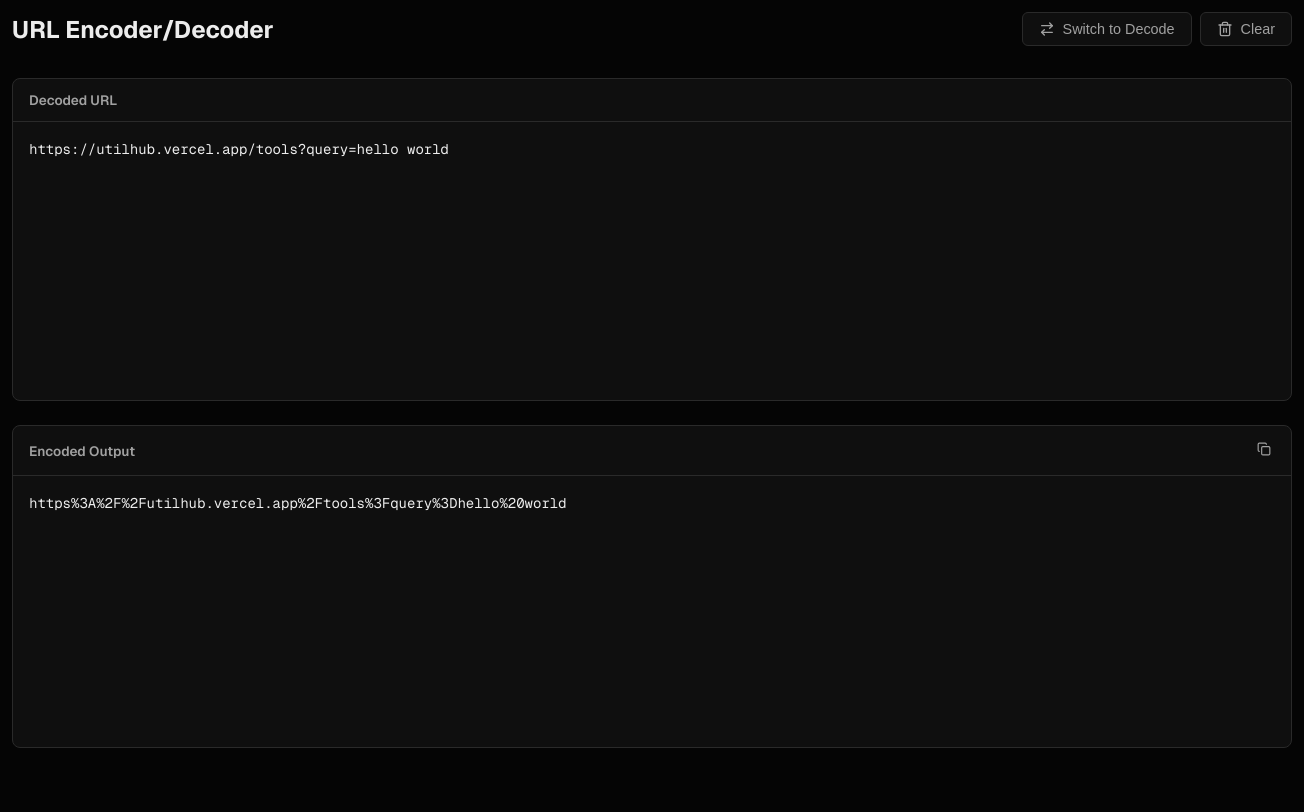
it: UrlTool › decodes a URL-encoded string
Click the button titled "Switch Mode". click: (1107, 29)
box: [1022,12,1192,46]
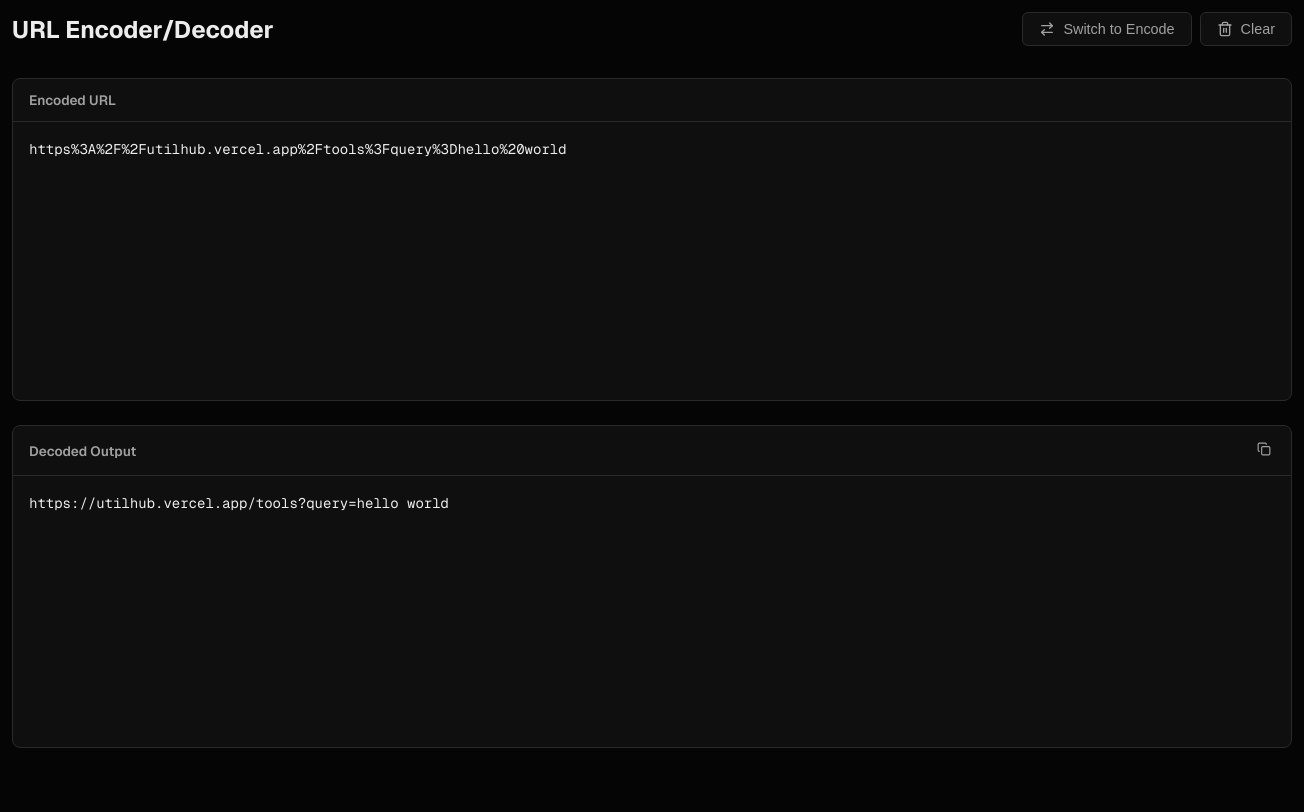
Replace the text in the text box with placeholder "Paste URL to decode..." below "Encoded URL" with "hello%20world". click: (652, 261)
box: [13,122,1291,400]
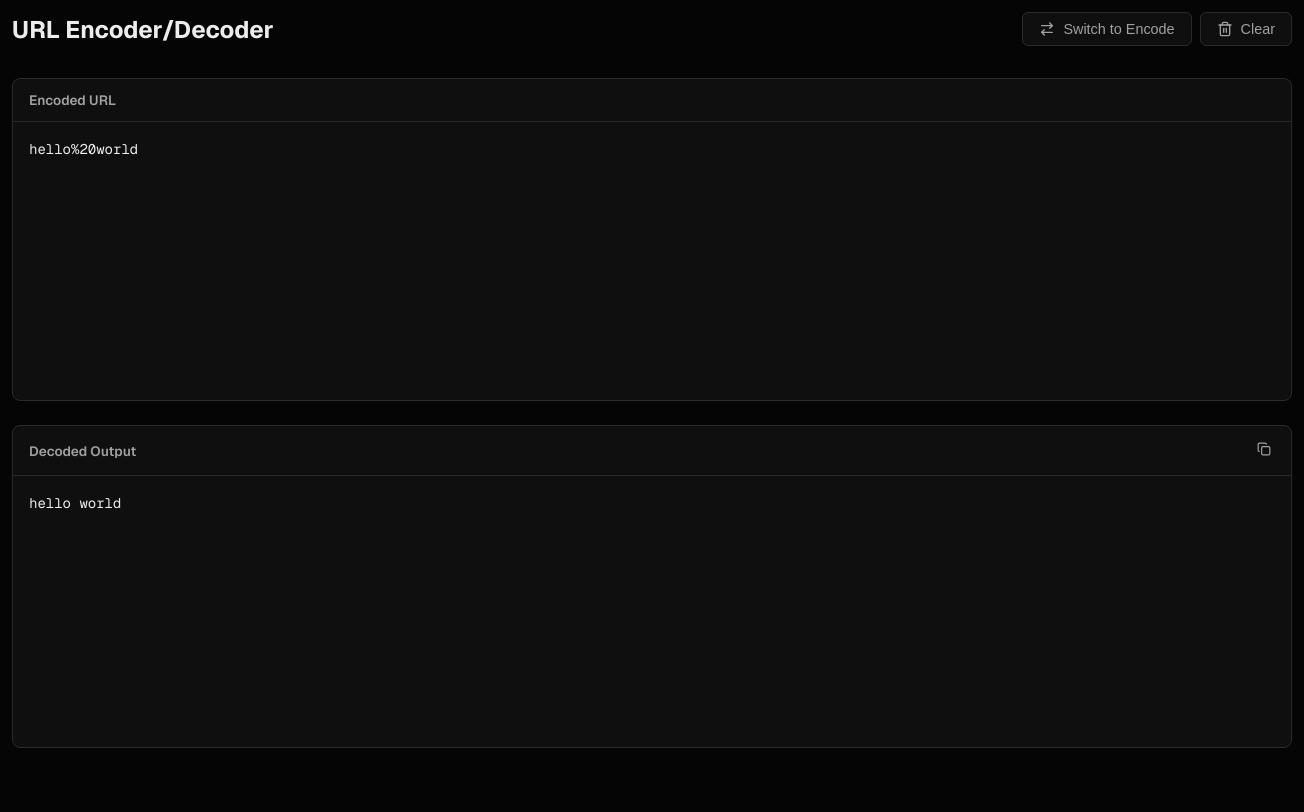
Check: the text box with placeholder "Result will appear here..." below "Decoded Output" holds "hello world", box [13,476,1291,747]
